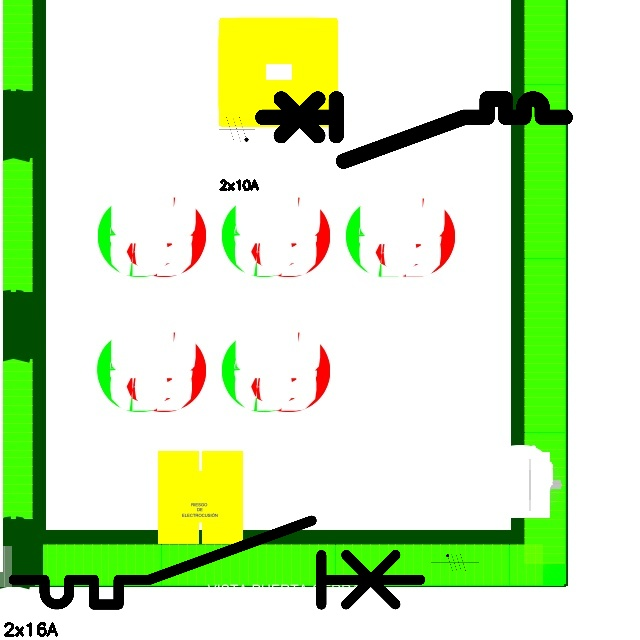interruptor_termomagnetico: (3, 510, 431, 615), (254, 91, 572, 169)
